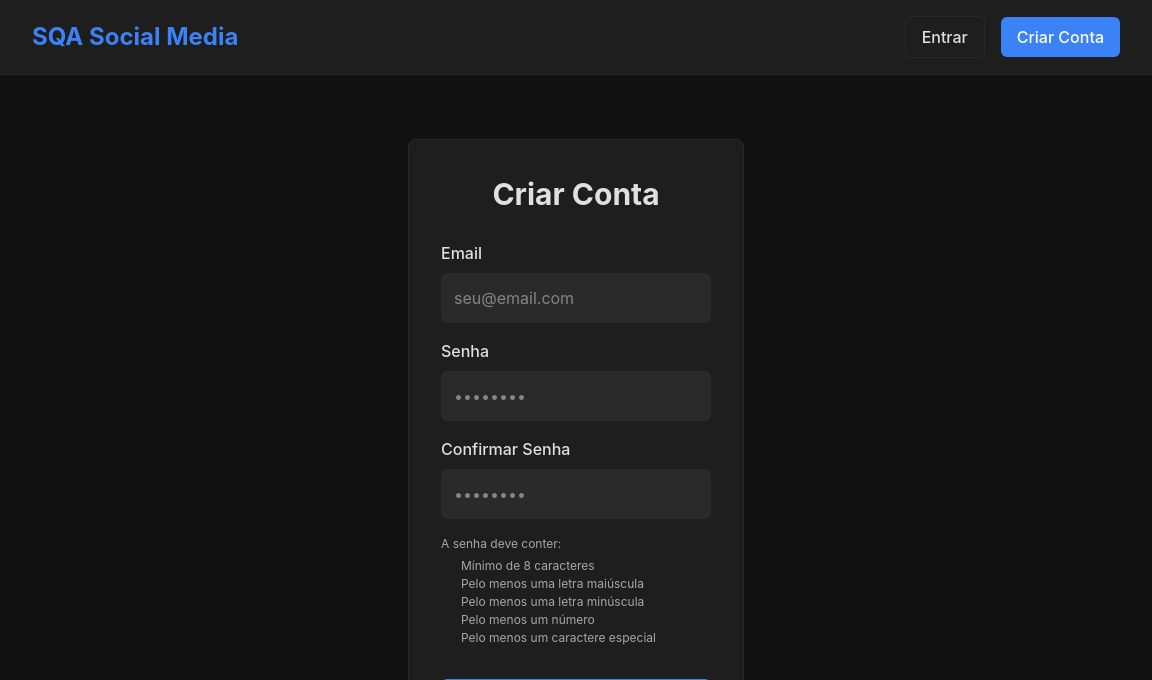
Tela de Cadastro (SignUp) - Integração › deve exibir erro quando as senhas não coincidem
The image size is (1152, 680).
In the field with placeholder "seu@email.com": coordinates (576, 298) x1=441 y1=273 x2=711 y2=323, type "usuario@email.com"
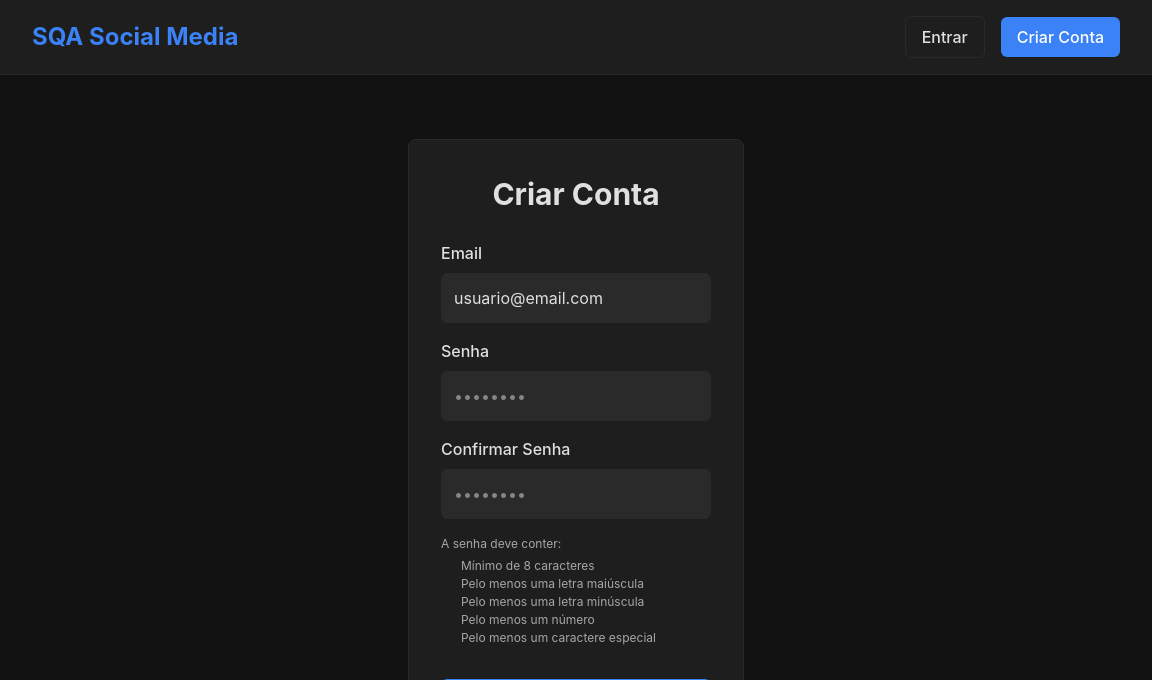
In the 1st password field with placeholder "••••••••": coordinates (576, 396) x1=441 y1=371 x2=711 y2=421, type "Senha@1234"
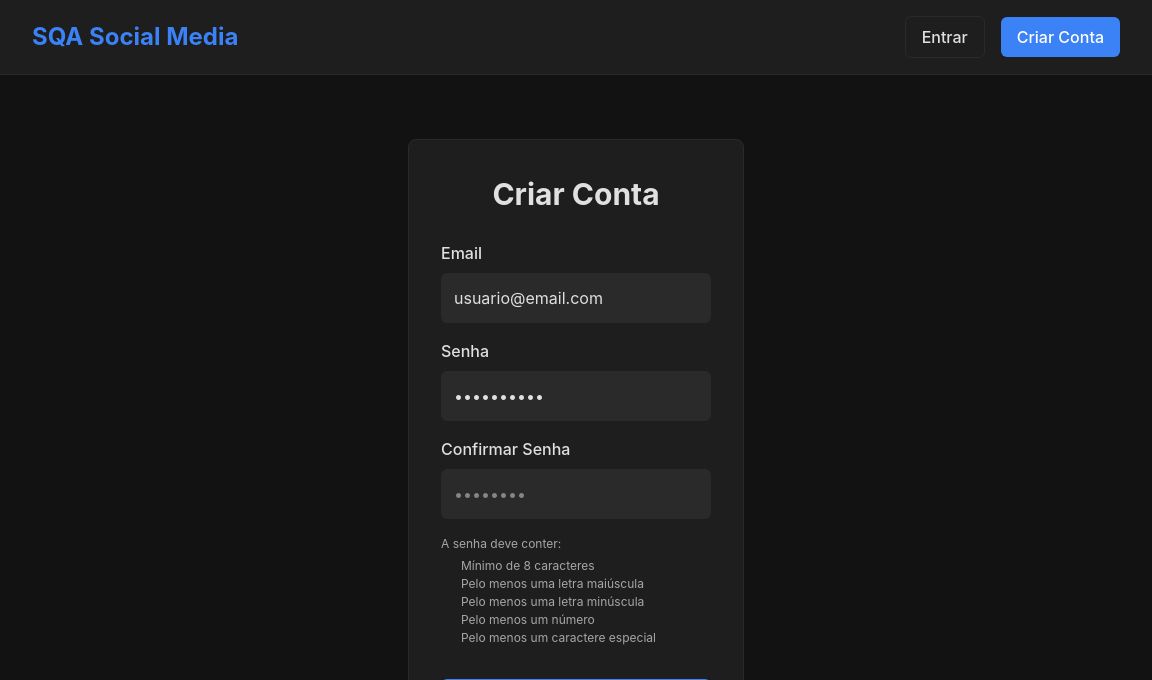
In the password field with placeholder "••••••••": coordinates (576, 494) x1=441 y1=469 x2=711 y2=519, type "SenhaDiferente@1"
(page scrolled)
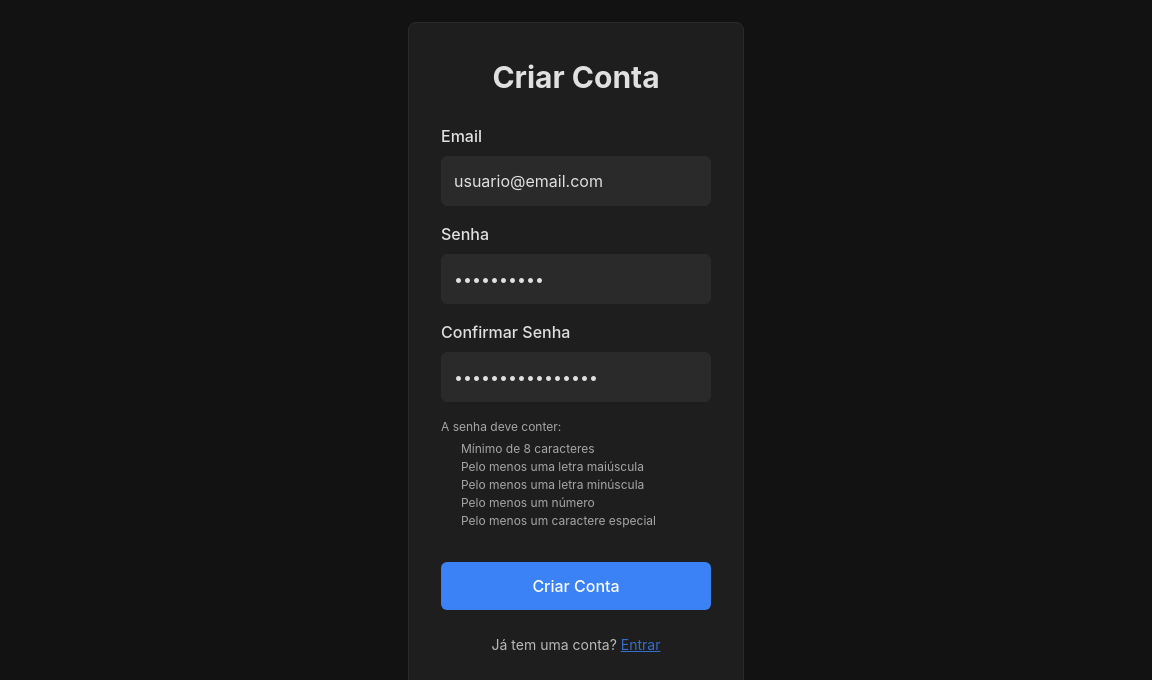
Click the button "Criar Conta": coordinates (576, 586) x1=441 y1=562 x2=711 y2=610
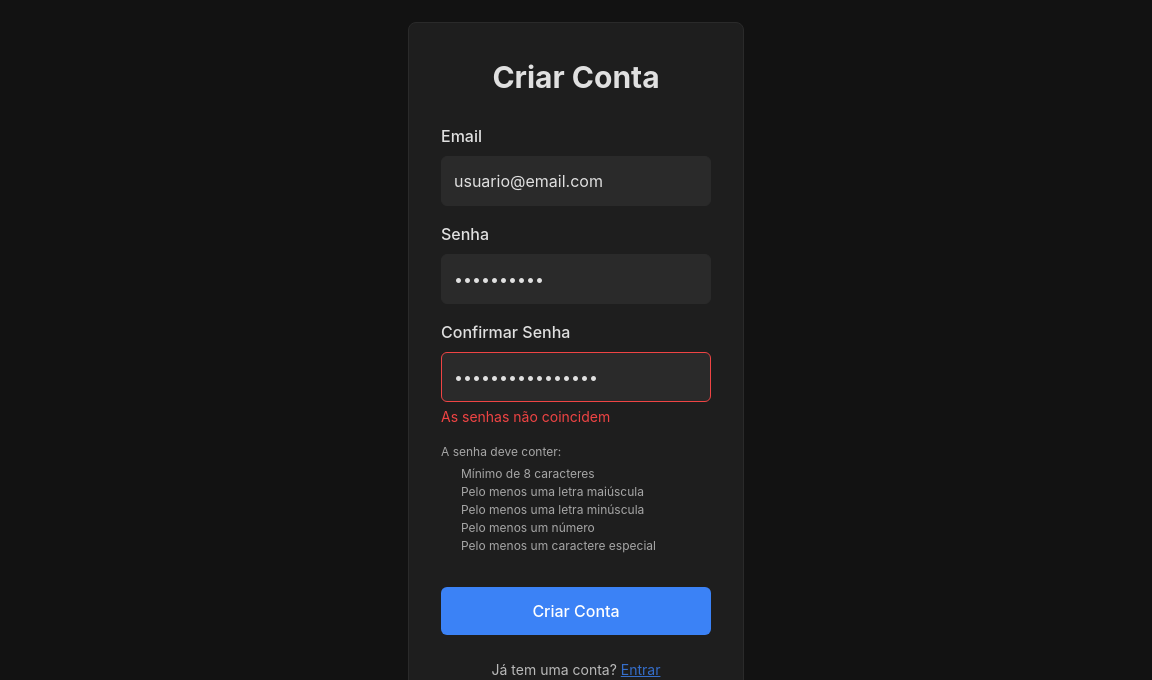
expect the text "As senhas não coincidem" is shown: met, box x1=441 y1=408 x2=610 y2=425
